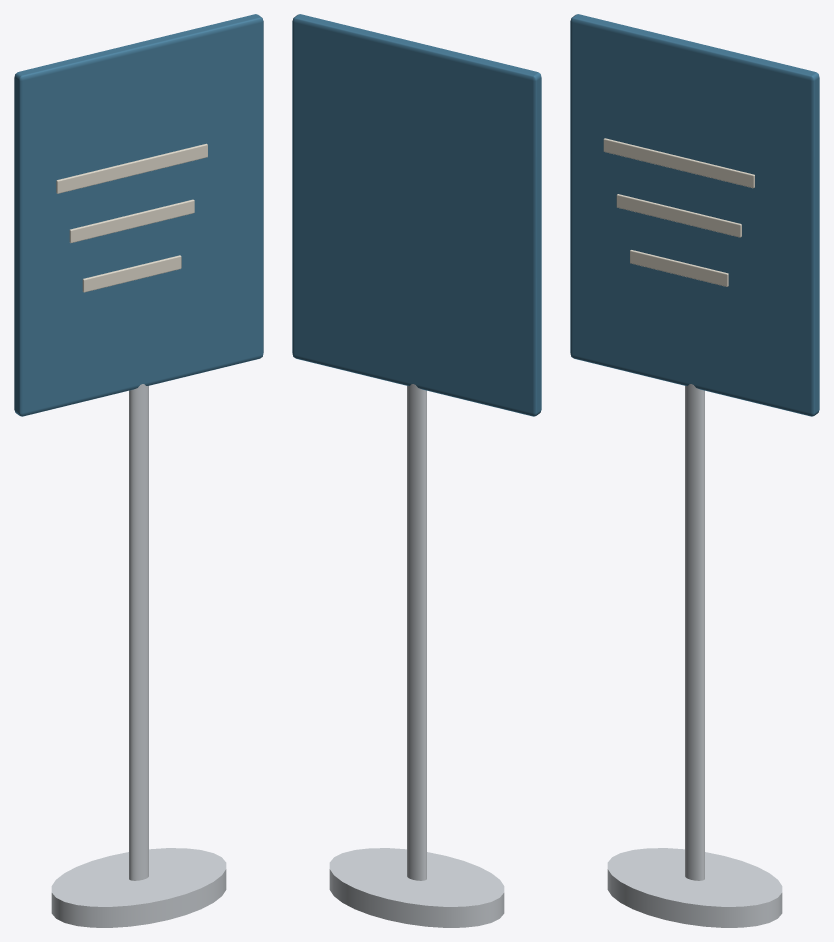
Rendered from wp-panneau-de-passage-pieton.glb.
3 renders of one model, left to right at view 1: azimuth 30°, elevation 25°; view 2: azimuth 150°, elevation 25°; view 3: azimuth 330°, elevation 25°, orthographic.
Visible parts, largest first — view 1: wp-panneau-de-passage-pieton; view 2: wp-panneau-de-passage-pieton; view 3: wp-panneau-de-passage-pieton.
Boxes of the visible parts, box(x1,y1,x2,y2) form: wp-panneau-de-passage-pieton: box(14, 14, 263, 927); wp-panneau-de-passage-pieton: box(292, 14, 541, 927); wp-panneau-de-passage-pieton: box(570, 14, 819, 927).
Bounding box in the file's own units: 0.6 × 2 × 0.25.
